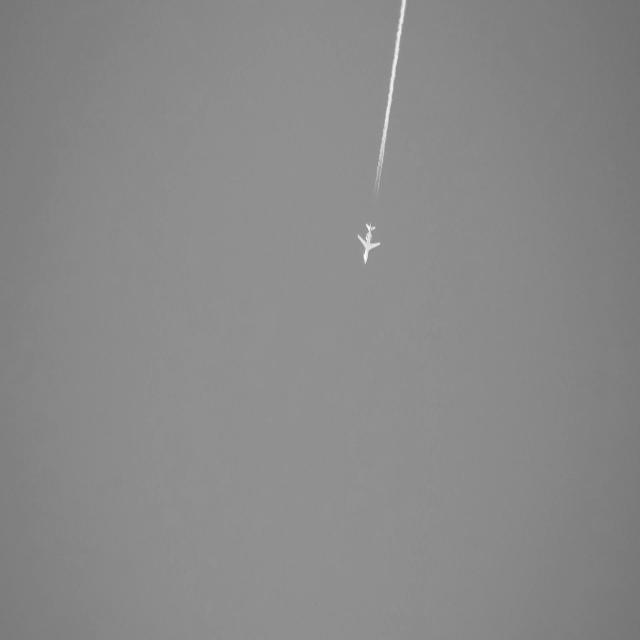aeroplane: (355, 219, 381, 268)
